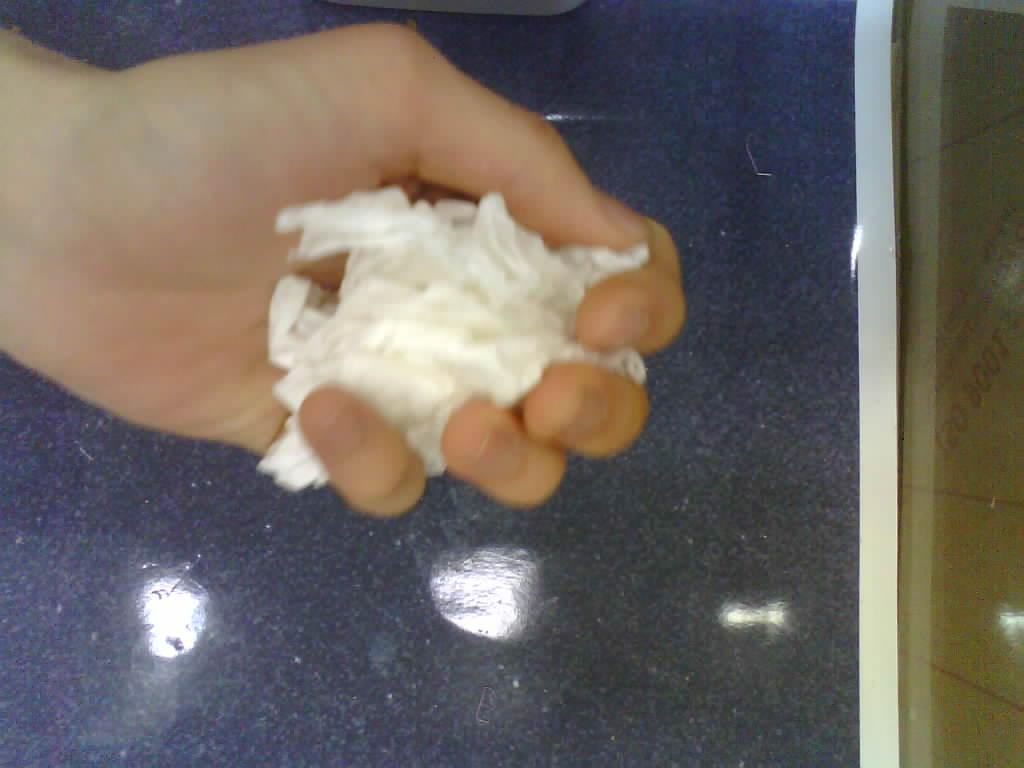paper: (261, 186, 649, 490)
